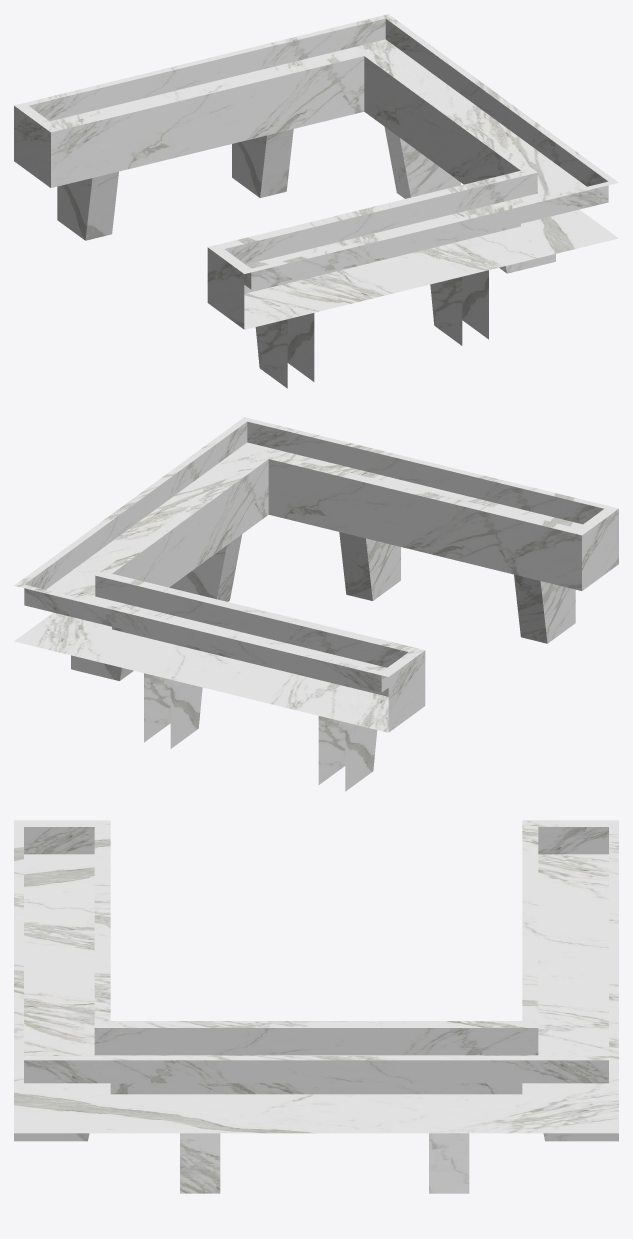
The model's file is LouDao-43.FBX.
3 views of the same model, one above another, from view 1: azimuth 30°, elevation 25°; view 2: azimuth 150°, elevation 25°; view 3: azimuth 270°, elevation 25° (orthographic). The views are drawn at different scales.
Visible parts, largest first — view 1: LouDao-43; view 2: LouDao-43; view 3: LouDao-43.
Part boxes in pixels (x1,y1,x2,y2): LouDao-43: (14,14,618,388); LouDao-43: (14,417,618,791); LouDao-43: (14,820,618,1193).
Bounding box in the file's own units: 2816 × 900 × 3000.
